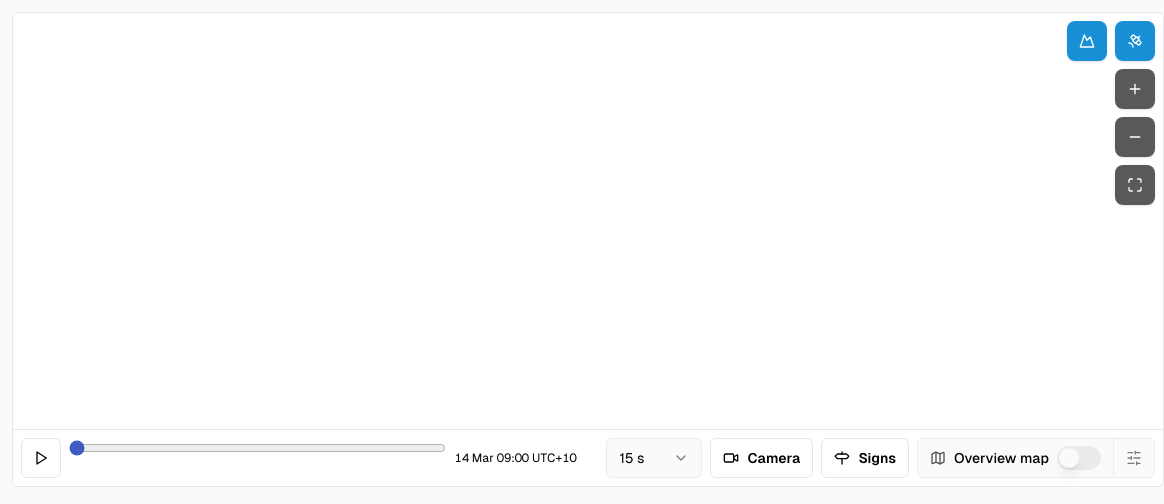
it: ReplayPanel › two gestures on the map before the panel redraws end the move once and leave the replay playing
Click the button named "Play replay".
click(41, 458)  # box x1=21 y1=438 x2=61 y2=478
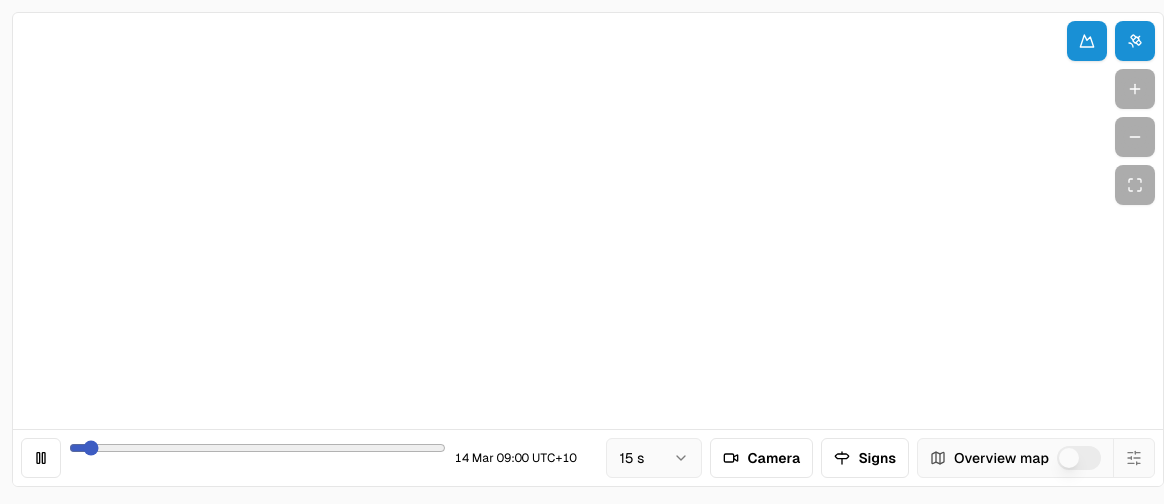
Expected: the button named "Pause replay" is shown, x1=21 y1=438 x2=61 y2=478
